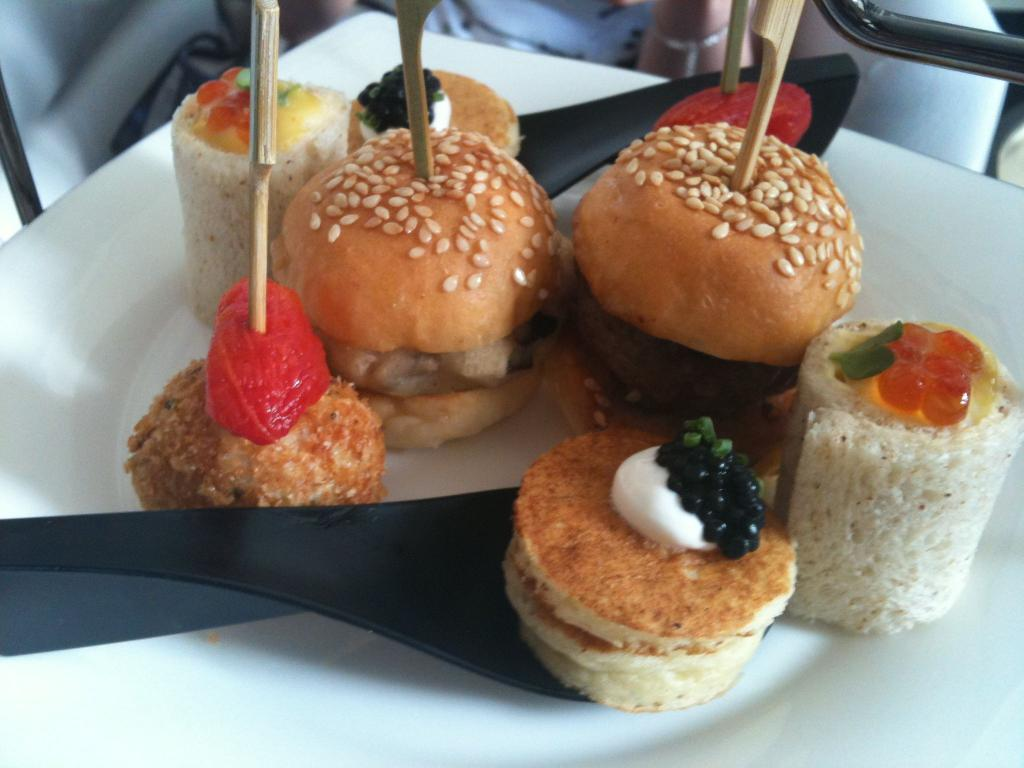Hamburger: (549, 119, 877, 447), (278, 114, 574, 449)
